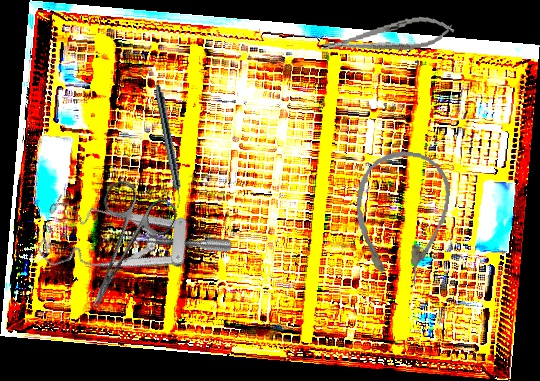Cannula: (347, 146, 455, 289)
Handpiece: (151, 84, 186, 209)
Iris Scissors: (59, 175, 181, 324)
Needle Holder: (319, 11, 457, 63)
Speculum: (27, 159, 235, 335)
